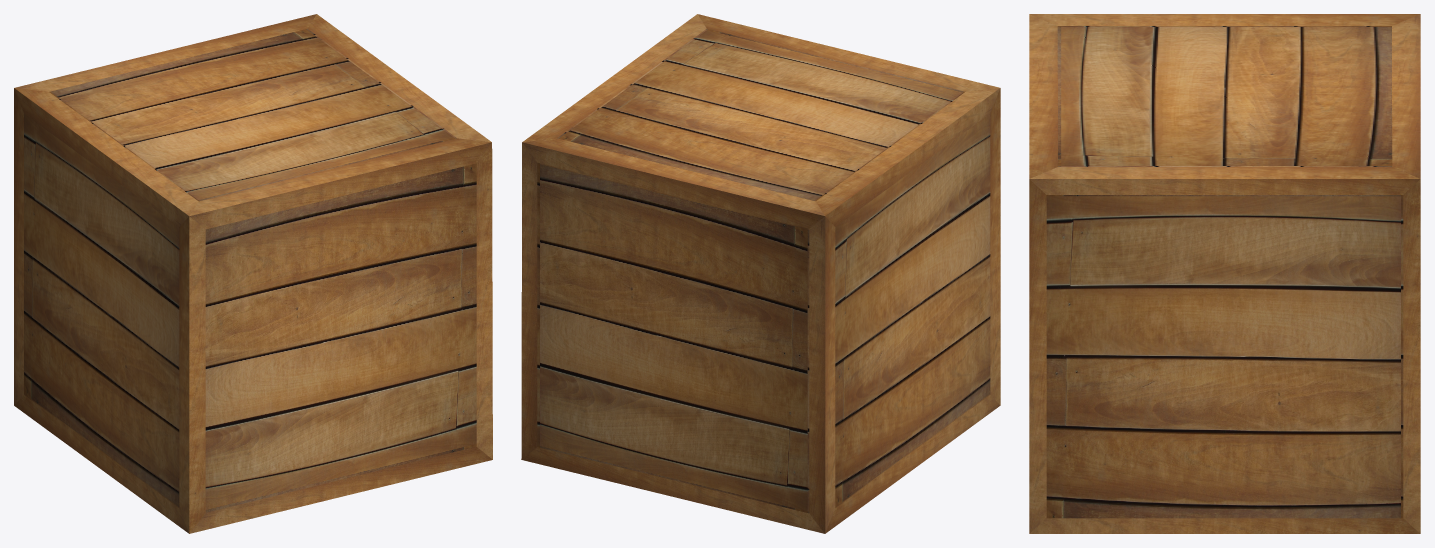
The model's file is Crate.fbx.
3 views of the same model, side by side, from view 1: azimuth 30°, elevation 25°; view 2: azimuth 150°, elevation 25°; view 3: azimuth 270°, elevation 25° (orthographic). The views are drawn at different scales.
Visible parts, largest first — view 1: Cube; view 2: Cube; view 3: Cube.
Boxes of the visible parts, x1=… form: Cube: x1=14, y1=14, x2=492, y2=533; Cube: x1=521, y1=14, x2=1000, y2=533; Cube: x1=1029, y1=14, x2=1420, y2=533.
Size of the model in its own units: 200 by 200 by 200.
Materials: 1 (1 with a texture image).
